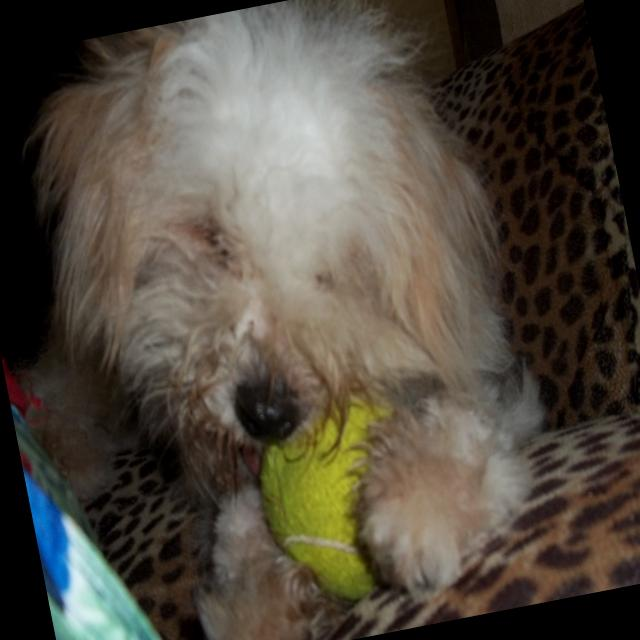Tennis ball: (245, 388, 420, 616)
